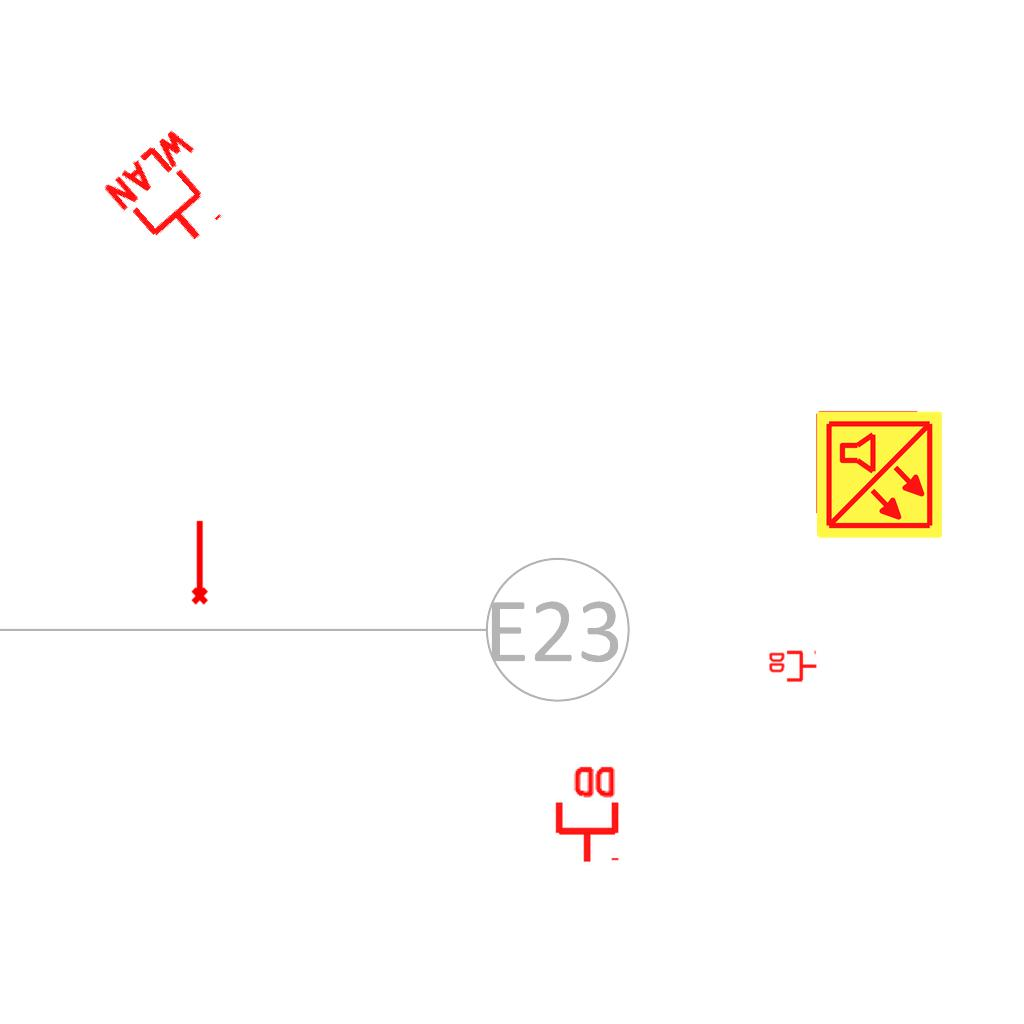ASR_Ansaugoeffnung: (187, 518, 210, 606)
Datenanschluss_zweifach: (551, 762, 620, 865), (767, 650, 818, 684)
OKW_Multisensormelder_(Kombination_optischer_Rauch-Kahlenmonoxid_Waerme-Melder): (813, 409, 945, 541)
WLAN: (98, 121, 247, 269)
